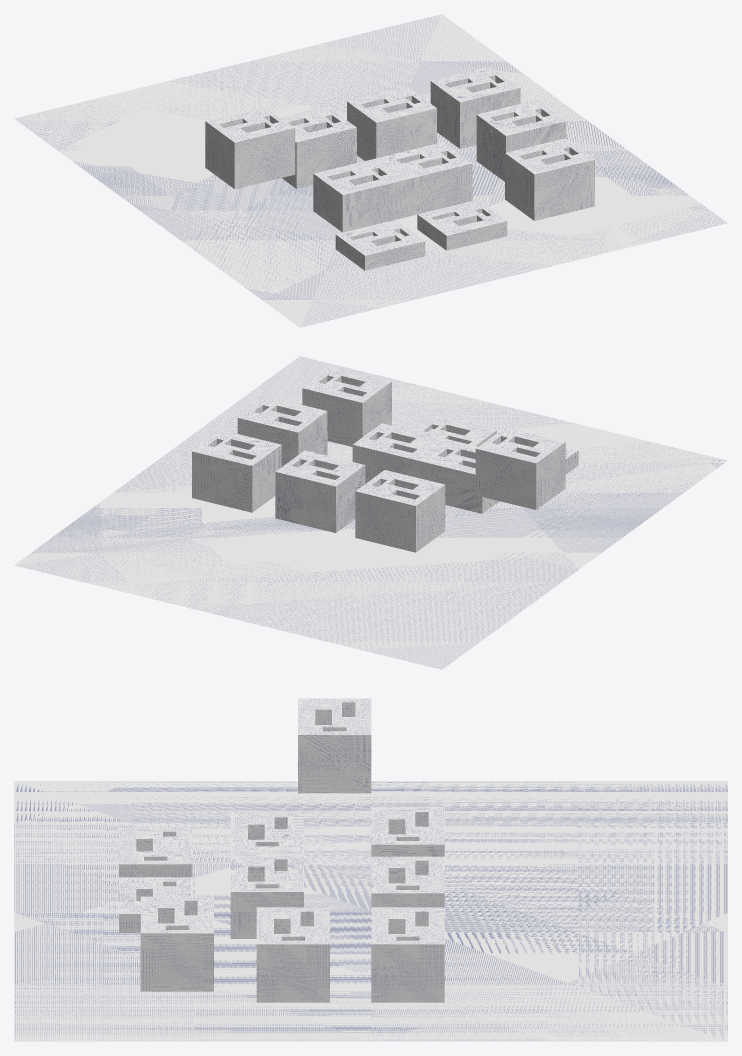
Rendered from 3d virtualewith all export.dae.
3 views of the same model, one above another, from view 1: azimuth 30°, elevation 25°; view 2: azimuth 150°, elevation 25°; view 3: azimuth 270°, elevation 25° (orthographic). The views are drawn at different scales.
Parts seen in each view (by area): view 1: group_0, SketchUp (×9); view 2: group_0, SketchUp (×8); view 3: group_0, SketchUp (×9).
Boxes of the visible parts, x1,y1,x2,y2 form: group_0: (14,14,727,327); SketchUp (×9): (205,66,594,270); group_0: (14,356,727,669); SketchUp (×8): (192,366,565,552); group_0: (14,781,727,1041); SketchUp (×9): (119,698,444,1002).
Bounding box in the file's own units: 1090 × 1261 × 219.
